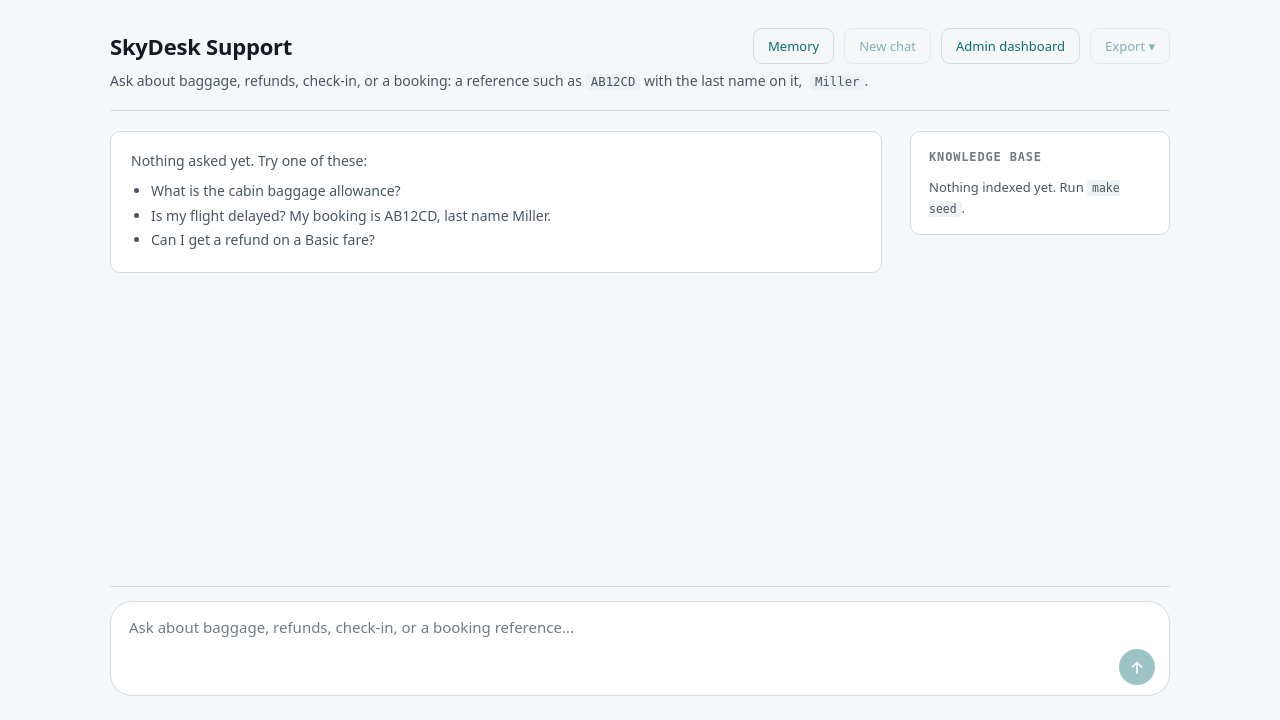
Test: a successful turn › marks a failed tool without losing the answer
This screenshot has width=1280, height=720.
Expected: the text "Nothing indexed yet. Run make seed." is shown, x1=929 y1=177 x2=1151 y2=218
Replace the text in the text box named "Your message" with "Is my flight delayed?". click: point(640, 627)
box: x1=125 y1=614 x2=1155 y2=641
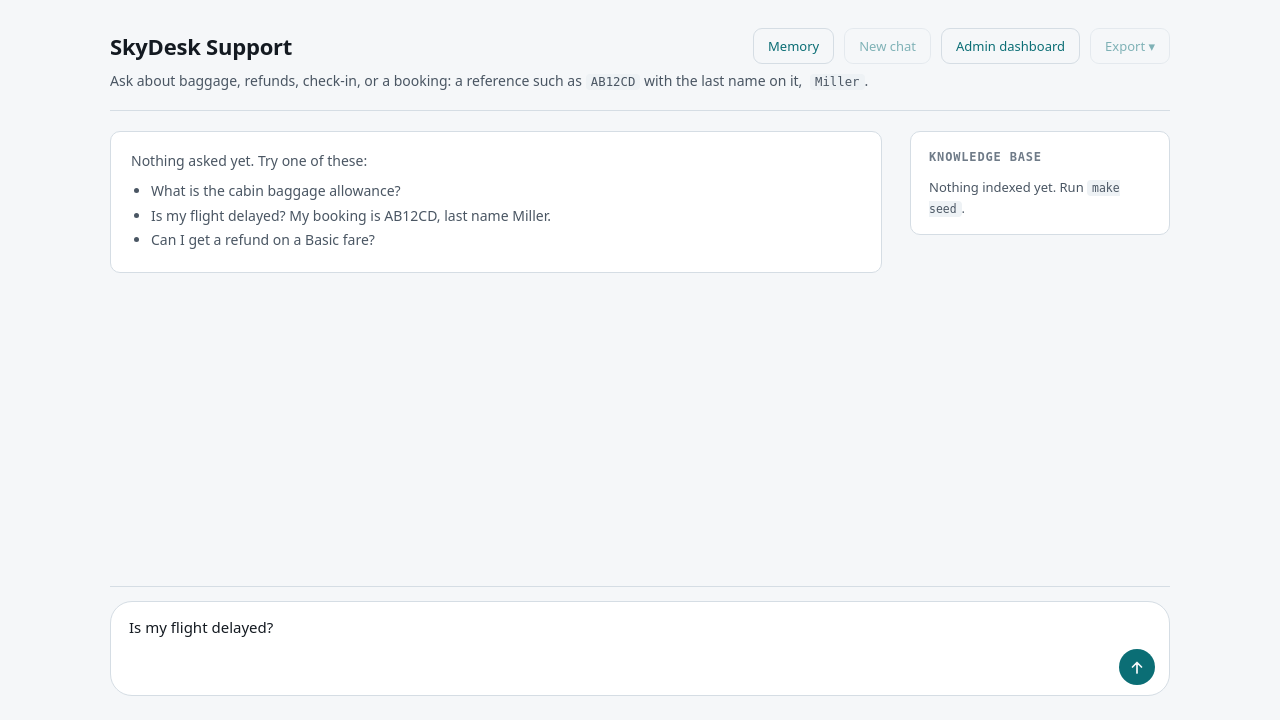
Click the button named "Send". click: point(1137, 667)
box: x1=1119 y1=649 x2=1155 y2=685
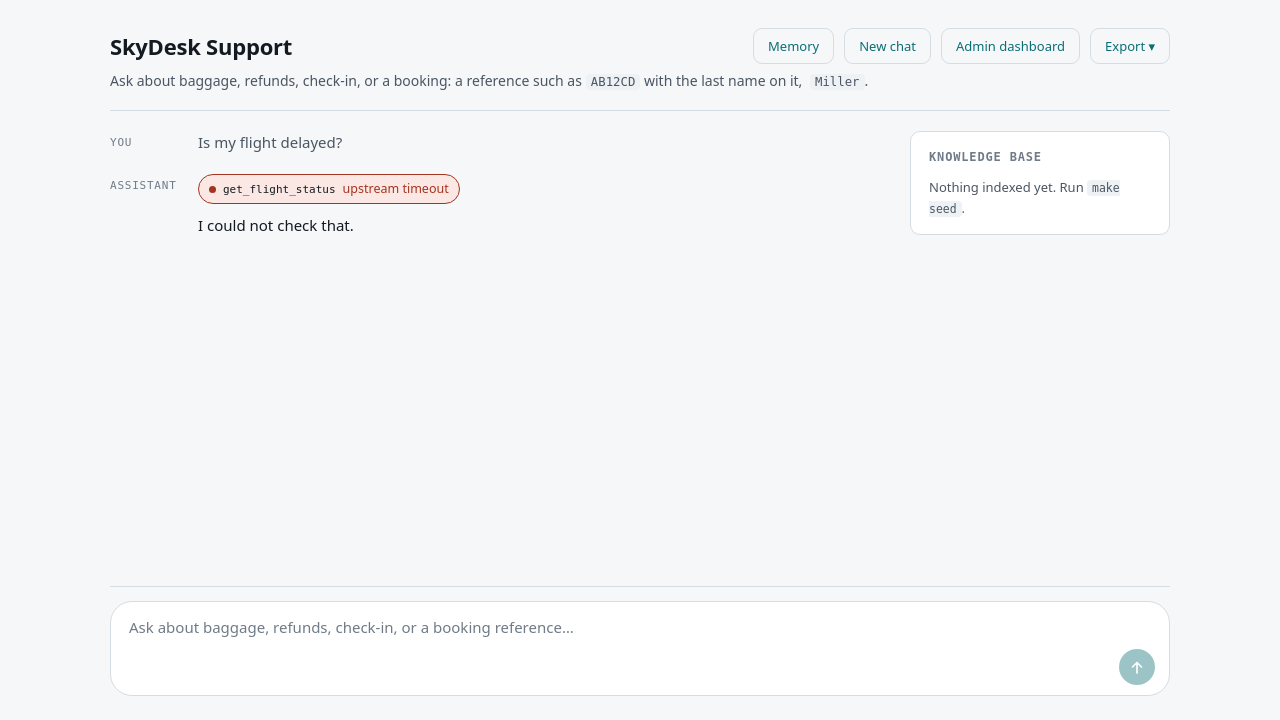
Now the text "I could not check that." is shown, box x1=198 y1=215 x2=354 y2=235
Now the text "upstream timeout" is shown, box x1=343 y1=180 x2=449 y2=199
